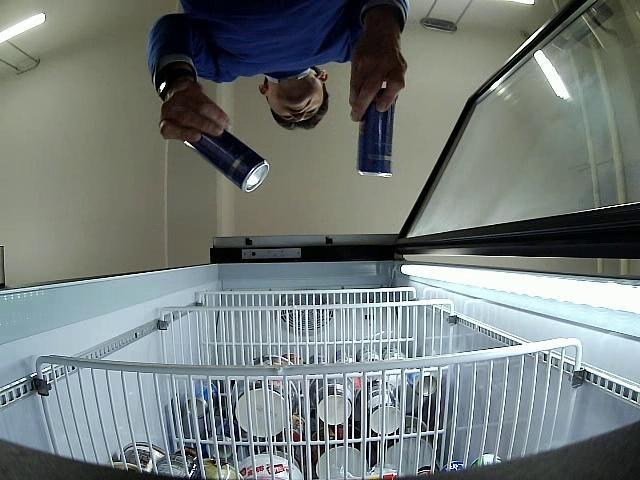16_hot6: (183, 129, 270, 193), (356, 88, 398, 178)
